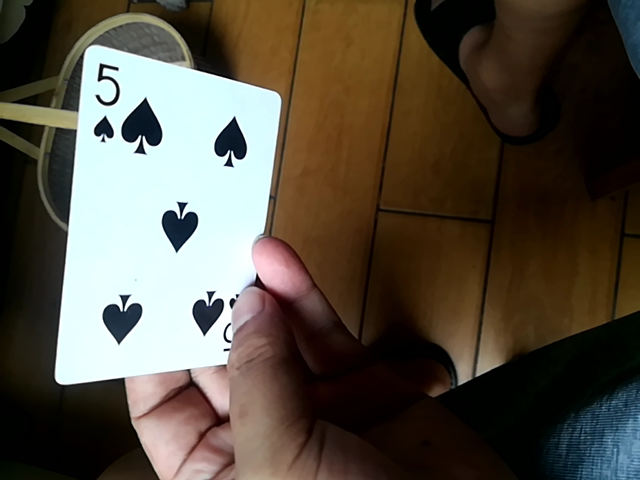ht 5: (62, 47, 269, 396)
